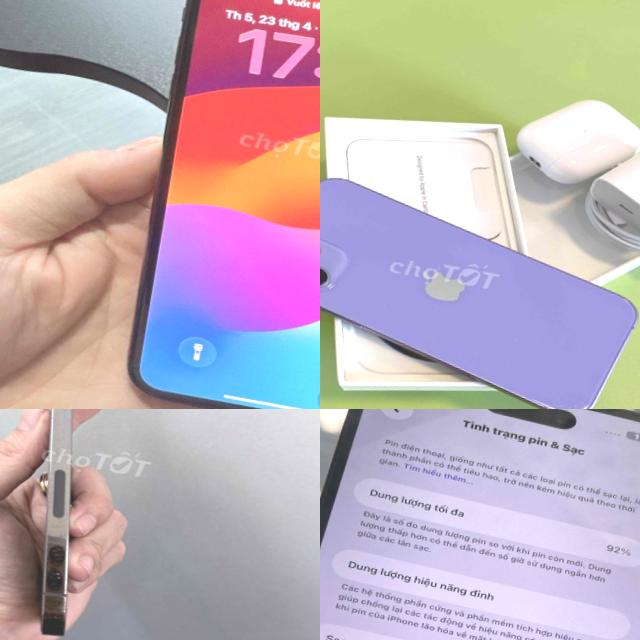gen_11: (105, 0, 320, 409)
gen_12_13: (320, 160, 640, 409), (0, 409, 140, 640)
gen_14: (320, 409, 640, 640)
